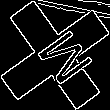M_SW: (21, 21, 89, 89)
